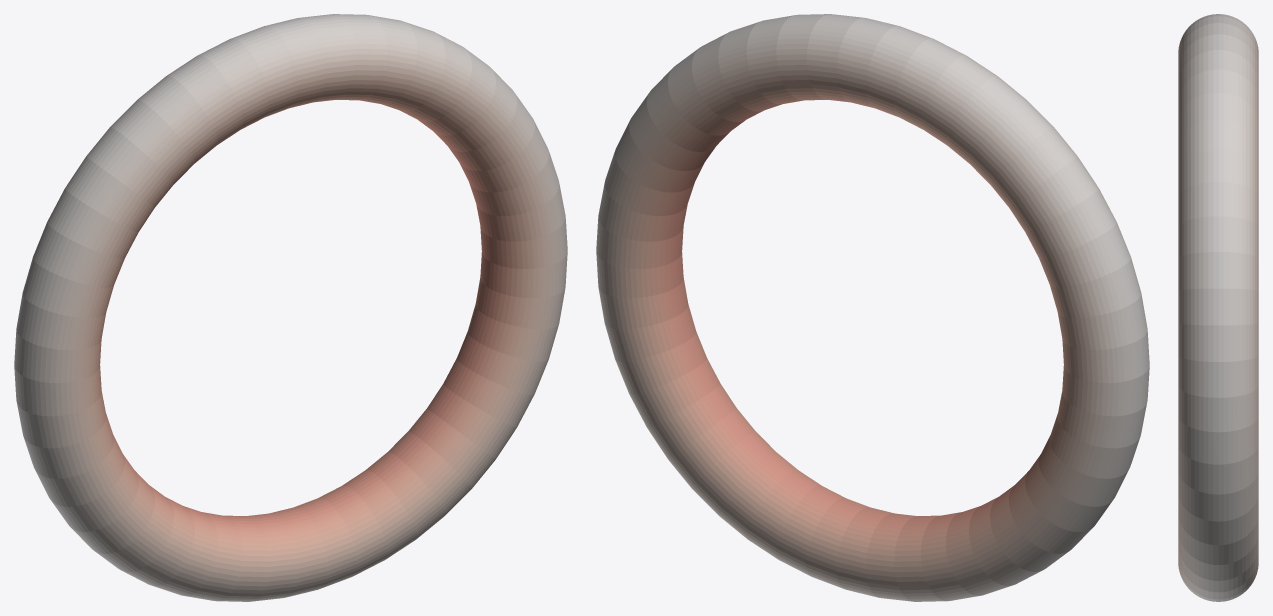
3 views of the same model, side by side, from view 1: azimuth 30°, elevation 25°; view 2: azimuth 150°, elevation 25°; view 3: azimuth 270°, elevation 25° (orthographic). The views are drawn at different scales.
Parts seen in each view (by area): view 1: world; view 2: world; view 3: world.
Boxes of the visible parts, bbox=[...] form: world: bbox=[14, 14, 567, 601]; world: bbox=[596, 14, 1149, 601]; world: bbox=[1178, 14, 1258, 601].
Bounding box in the file's own units: 34 × 33.93 × 4.66.
